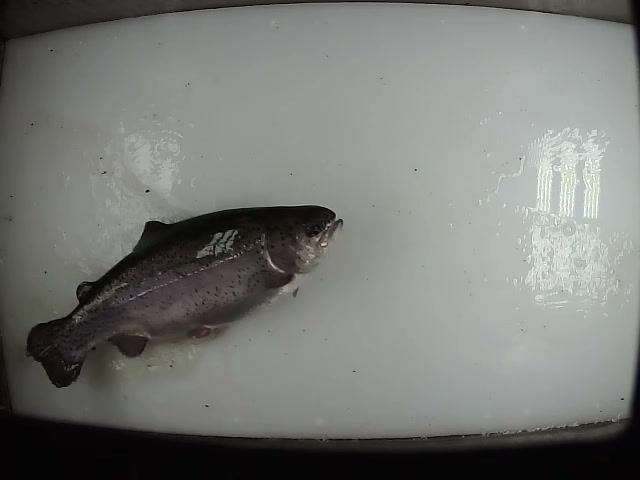fish: (25, 203, 345, 393)
